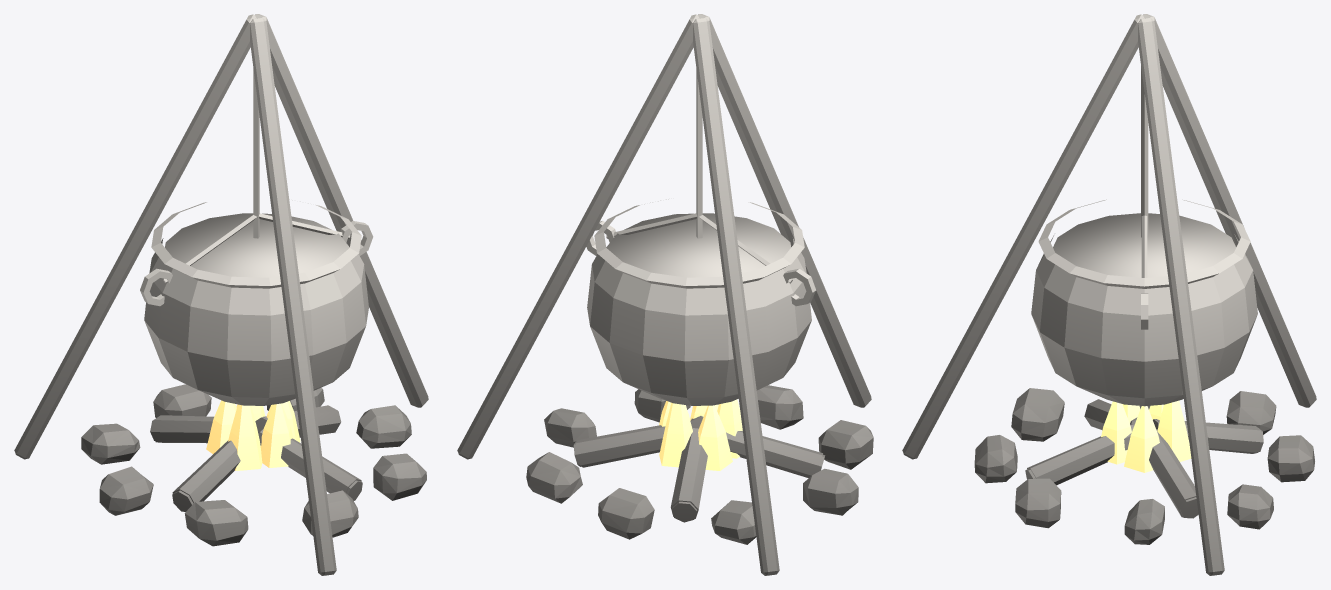
File: SM_VK_Prop_Cauldron.glb
3 views of the same model, side by side, from view 1: azimuth 30°, elevation 25°; view 2: azimuth 150°, elevation 25°; view 3: azimuth 270°, elevation 25° (orthographic).
Visible parts, largest first — view 1: SM_VK_Prop_Cauldron; view 2: SM_VK_Prop_Cauldron; view 3: SM_VK_Prop_Cauldron.
Part boxes in pixels (left/top/right/bottom): SM_VK_Prop_Cauldron: left=14, top=14, right=428, bottom=575; SM_VK_Prop_Cauldron: left=457, top=14, right=873, bottom=575; SM_VK_Prop_Cauldron: left=902, top=14, right=1316, bottom=575.
Size of the model in its own units: 1.75 by 2.12 by 1.72.
